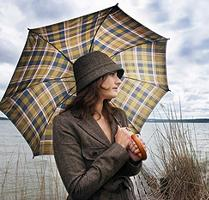person: (53, 52, 147, 200)
